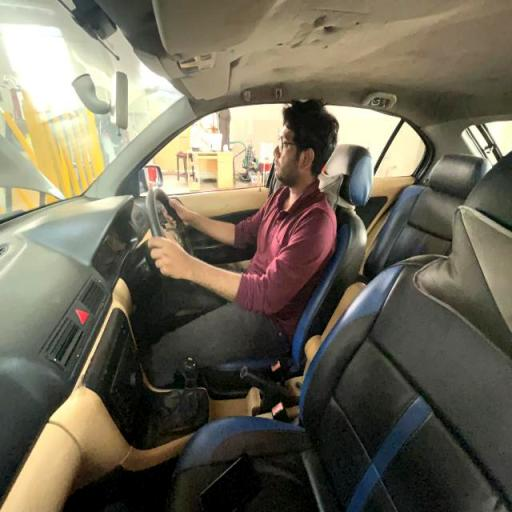Reaching_behind: (138, 98, 341, 356)
